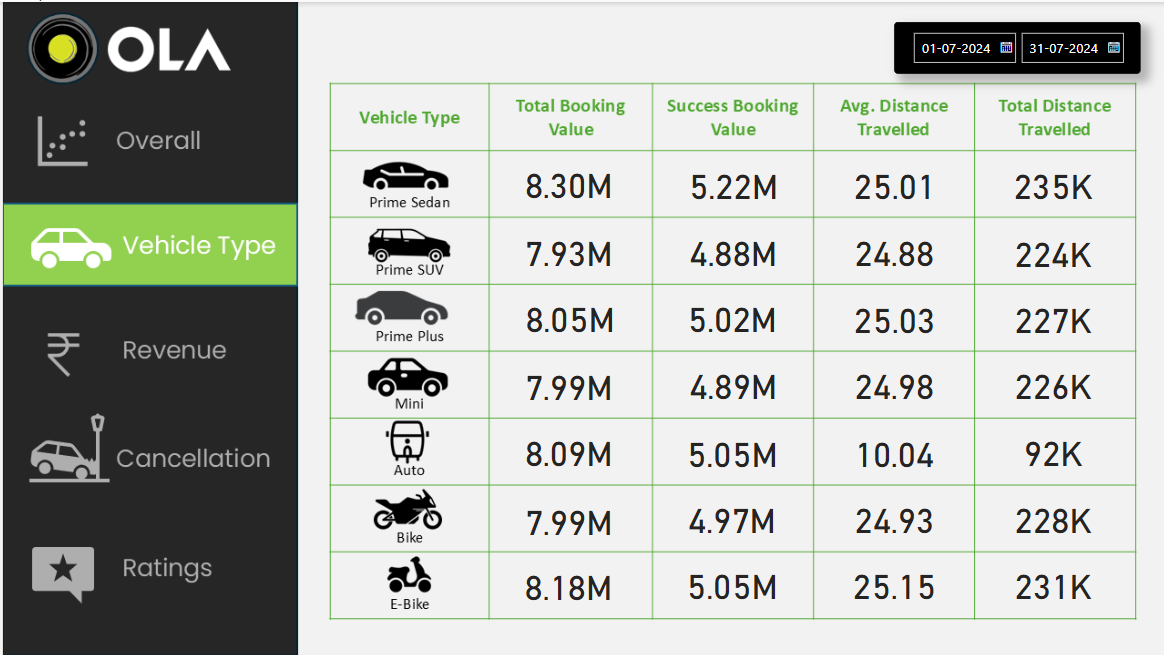

The page's visual inventory and layout, read from the dashboard file:
{"tool":"powerbi","page":{"name":"Vehicle Type","canvas":[1280,720],"ordinal":1},"visuals":[{"type":"actionButton","box":[0,223.2,325.7,89.3],"z":0},{"type":"actionButton","box":[0,337.8,325.7,89.3],"z":1000},{"type":"actionButton","box":[0,460.9,325.7,89.3],"z":2000},{"type":"actionButton","box":[0,579.1,325.7,89.3],"z":3000},{"type":"actionButton","box":[0,114.6,325.7,89.3],"z":4000},{"type":"card","fields":{"Values":["Sum(July.Booking_Value)"]},"box":[544,168,155.1,63.1],"z":5000},{"type":"card","fields":{"Values":["Sum(July.Booking_Value)"]},"box":[544,241,155,63],"z":6000},{"type":"card","fields":{"Values":["Sum(July.Booking_Value)"]},"box":[545,314,155.7,62.9],"z":7000},{"type":"card","fields":{"Values":["Sum(July.Booking_Value)"]},"box":[544,389,155.1,63.1],"z":8000},{"type":"card","fields":{"Values":["Sum(July.Booking_Value)"]},"box":[544,461.1,155.1,63.1],"z":9000},{"type":"card","fields":{"Values":["Sum(July.Booking_Value)"]},"box":[544,536,155.1,63.1],"z":10000},{"type":"card","fields":{"Values":["Sum(July.Booking_Value)"]},"box":[543,609,154.4,62.2],"z":11000},{"type":"card","fields":{"Values":["Sum(July.Booking_Value)"]},"box":[724.3,168.6,154.3,62.9],"z":12000},{"type":"card","fields":{"Values":["Sum(July.Booking_Value)"]},"box":[724.3,242.9,154.3,61.4],"z":13000},{"type":"card","fields":{"Values":["Sum(July.Booking_Value)"]},"box":[722.9,315.7,154.3,61.4],"z":14000},{"type":"card","fields":{"Values":["Sum(July.Booking_Value)"]},"box":[724.3,388.6,154.3,62.9],"z":15000},{"type":"card","fields":{"Values":["Sum(July.Booking_Value)"]},"box":[723.3,462.2,154.4,62.2],"z":16000},{"type":"card","fields":{"Values":["Sum(July.Booking_Value)"]},"box":[722.9,535.7,154.3,62.9],"z":17000},{"type":"card","fields":{"Values":["Sum(July.Booking_Value)"]},"box":[722.9,608.6,154.3,62.9],"z":18000},{"type":"card","fields":{"Values":["Avg(July.Ride_Distance)"]},"box":[901.4,168.6,154.3,62.9],"z":19000},{"type":"card","fields":{"Values":["Avg(July.Ride_Distance)"]},"box":[901.4,241.4,154.3,62.9],"z":20000},{"type":"card","fields":{"Values":["Avg(July.Ride_Distance)"]},"box":[901.4,315.7,154.3,62.9],"z":21000},{"type":"card","fields":{"Values":["Avg(July.Ride_Distance)"]},"box":[901.4,388.6,154.3,62.9],"z":22000},{"type":"card","fields":{"Values":["Avg(July.Ride_Distance)"]},"box":[901.4,462.9,154.3,62.9],"z":23000},{"type":"card","fields":{"Values":["Avg(July.Ride_Distance)"]},"box":[901.4,535.7,154.3,62.9],"z":24000},{"type":"card","fields":{"Values":["Avg(July.Ride_Distance)"]},"box":[901.4,608.6,154.3,62.9],"z":25000},{"type":"card","fields":{"Values":["Sum(July.Ride_Distance)"]},"box":[1075.7,168.6,154.3,62.9],"z":26000},{"type":"card","fields":{"Values":["Sum(July.Ride_Distance)"]},"box":[1075.7,242.9,154.3,62.9],"z":27000},{"type":"card","fields":{"Values":["Sum(July.Ride_Distance)"]},"box":[1075.7,315.7,154.3,62.9],"z":28000},{"type":"card","fields":{"Values":["Sum(July.Ride_Distance)"]},"box":[1075.7,388.6,154.3,62.9],"z":29000},{"type":"card","fields":{"Values":["Sum(July.Ride_Distance)"]},"box":[1075.7,461.4,154.3,62.9],"z":30000},{"type":"card","fields":{"Values":["Sum(July.Ride_Distance)"]},"box":[1075.7,535.7,154.3,62.9],"z":31000},{"type":"card","fields":{"Values":["Sum(July.Ride_Distance)"]},"box":[1075.7,608.6,154.3,62.9],"z":32000},{"type":"slicer","title":"Date","fields":{"Values":["July.Date"]},"box":[978.6,21.4,270,57.1],"z":33000}]}

Visuals, with their boxes on the page's 1280x720 design canvas (x1, y1, x2, y2). These are canvas units, not pixel positions in the 1164x655 screenshot, which may show the page scaled, cropped or inside an application window:
actionButton: 0/223/326/312
actionButton: 0/338/326/427
actionButton: 0/461/326/550
actionButton: 0/579/326/668
actionButton: 0/115/326/204
card - Sum(July.Booking_Value): 544/168/699/231
card - Sum(July.Booking_Value): 544/241/699/304
card - Sum(July.Booking_Value): 545/314/701/377
card - Sum(July.Booking_Value): 544/389/699/452
card - Sum(July.Booking_Value): 544/461/699/524
card - Sum(July.Booking_Value): 544/536/699/599
card - Sum(July.Booking_Value): 543/609/697/671
card - Sum(July.Booking_Value): 724/169/879/232
card - Sum(July.Booking_Value): 724/243/879/304
card - Sum(July.Booking_Value): 723/316/877/377
card - Sum(July.Booking_Value): 724/389/879/452
card - Sum(July.Booking_Value): 723/462/878/524
card - Sum(July.Booking_Value): 723/536/877/599
card - Sum(July.Booking_Value): 723/609/877/672
card - Avg(July.Ride_Distance): 901/169/1056/232
card - Avg(July.Ride_Distance): 901/241/1056/304
card - Avg(July.Ride_Distance): 901/316/1056/379
card - Avg(July.Ride_Distance): 901/389/1056/452
card - Avg(July.Ride_Distance): 901/463/1056/526
card - Avg(July.Ride_Distance): 901/536/1056/599
card - Avg(July.Ride_Distance): 901/609/1056/672
card - Sum(July.Ride_Distance): 1076/169/1230/232
card - Sum(July.Ride_Distance): 1076/243/1230/306
card - Sum(July.Ride_Distance): 1076/316/1230/379
card - Sum(July.Ride_Distance): 1076/389/1230/452
card - Sum(July.Ride_Distance): 1076/461/1230/524
card - Sum(July.Ride_Distance): 1076/536/1230/599
card - Sum(July.Ride_Distance): 1076/609/1230/672
"Date" slicer: 979/21/1249/78
